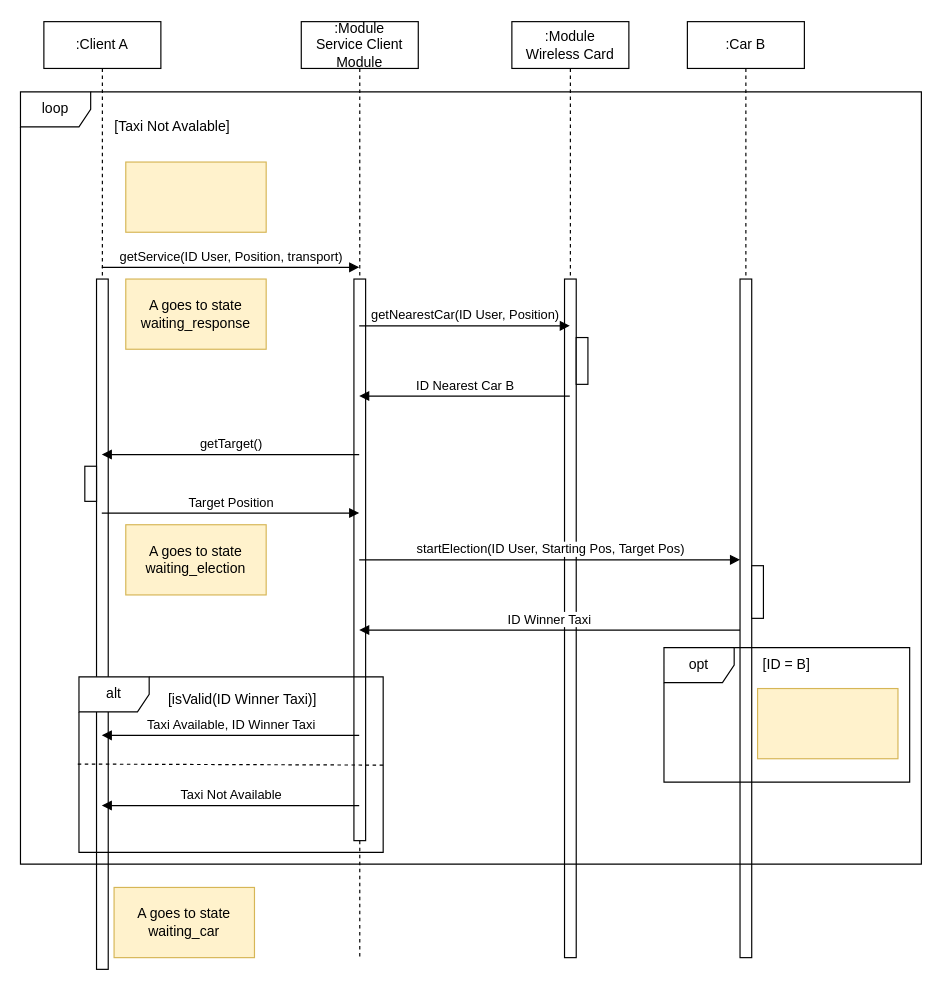
Image size: 942x990. Some labels were removed from this diagram. The shapes that lost their labels are listed below. From the top down, each one's centre as x and y in pixels, then its label:
the point at 195,196: A goes to state idle
the point at 827,723: B goes to state moving_to_client
